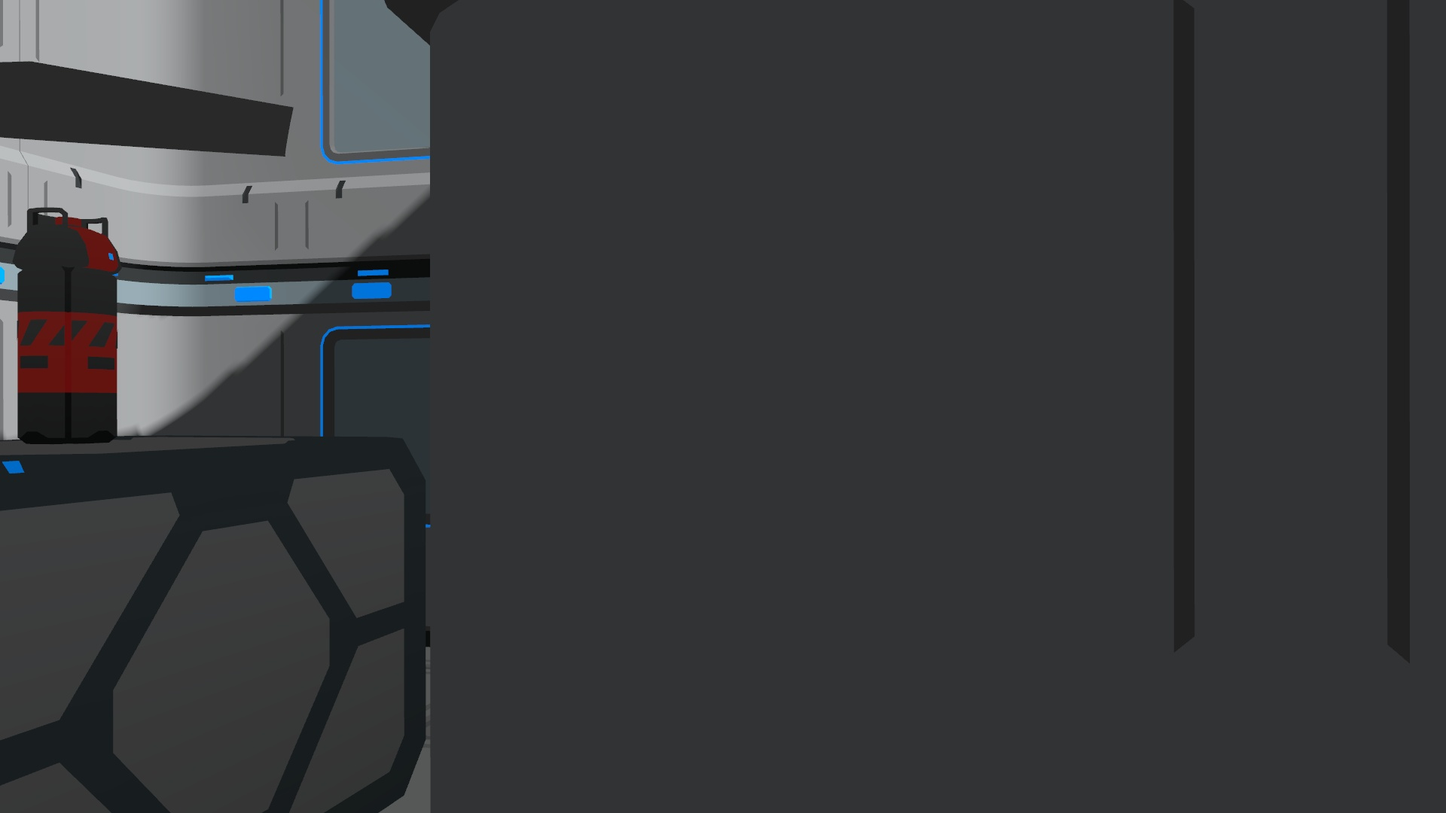red_barrel: (11, 197, 121, 447)
